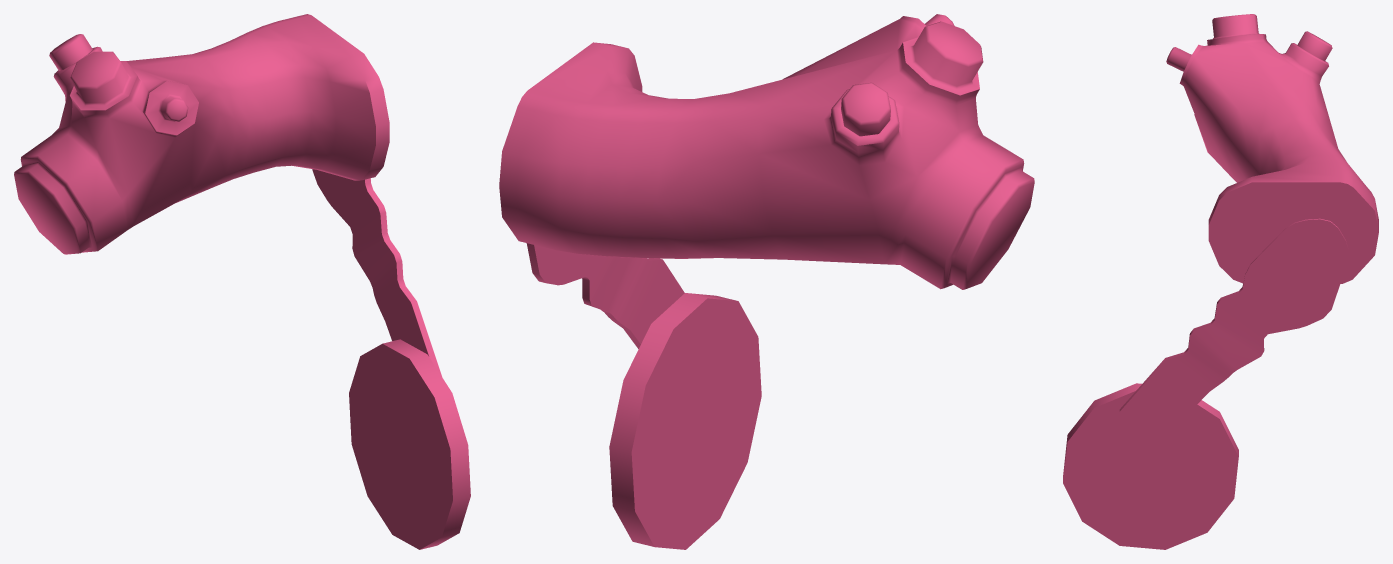
Rendered from ThrottleHandle.fbx.
3 views of the same model, side by side, from view 1: azimuth 30°, elevation 25°; view 2: azimuth 150°, elevation 25°; view 3: azimuth 270°, elevation 25° (orthographic). The views are drawn at different scales.
Visible parts, largest first — view 1: ThrottleHandle; view 2: ThrottleHandle; view 3: ThrottleHandle.
Part boxes in pixels (<box>): ThrottleHandle: <box>14,14,470,549</box>; ThrottleHandle: <box>499,14,1034,549</box>; ThrottleHandle: <box>1063,14,1378,549</box>.
Bounding box in the file's own units: 18.68 × 26.61 × 17.73.
